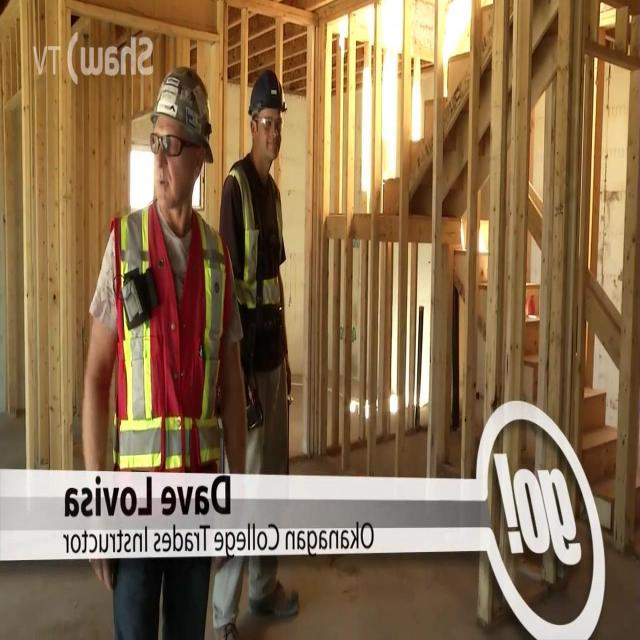Reflective-Jacket: (79, 199, 242, 484), (213, 156, 302, 387)
Safety-Helmet: (241, 59, 293, 130)
